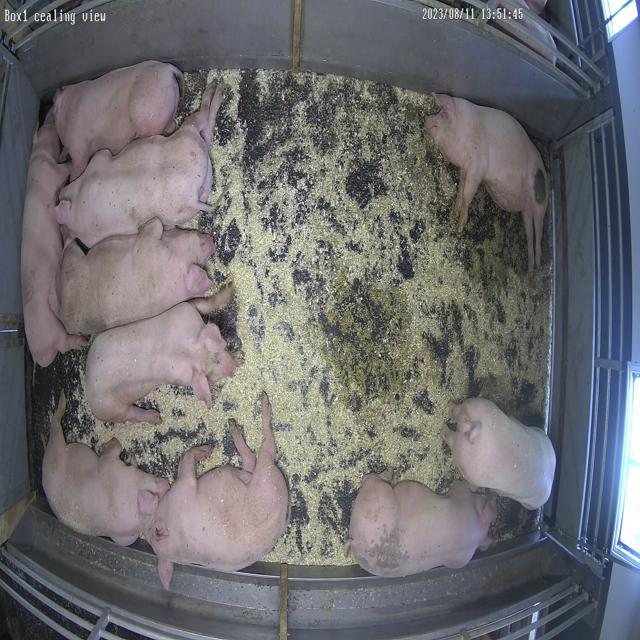Dirt: (325, 278, 413, 412), (457, 188, 528, 300)
Pig: (144, 394, 288, 590), (425, 93, 549, 272), (42, 394, 169, 546), (55, 124, 212, 246), (57, 218, 214, 336), (85, 303, 236, 424), (21, 114, 84, 366), (53, 60, 183, 178), (350, 478, 497, 578), (442, 399, 557, 510), (183, 83, 224, 144)
